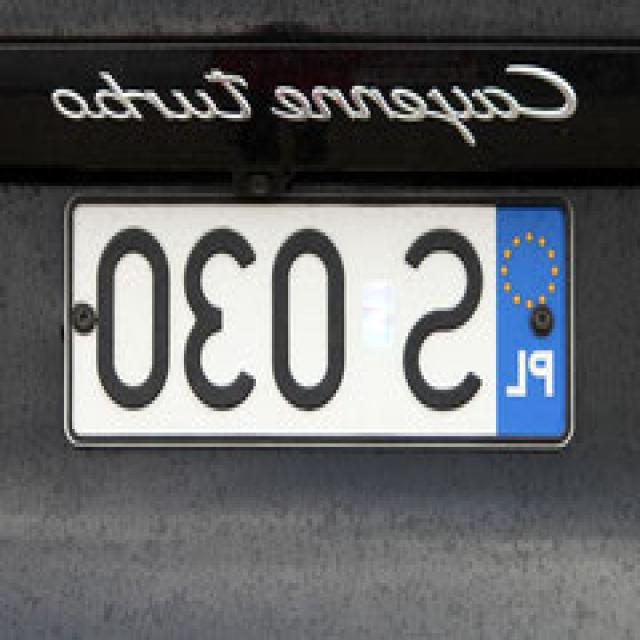pl_license_plate: (67, 193, 576, 443)
